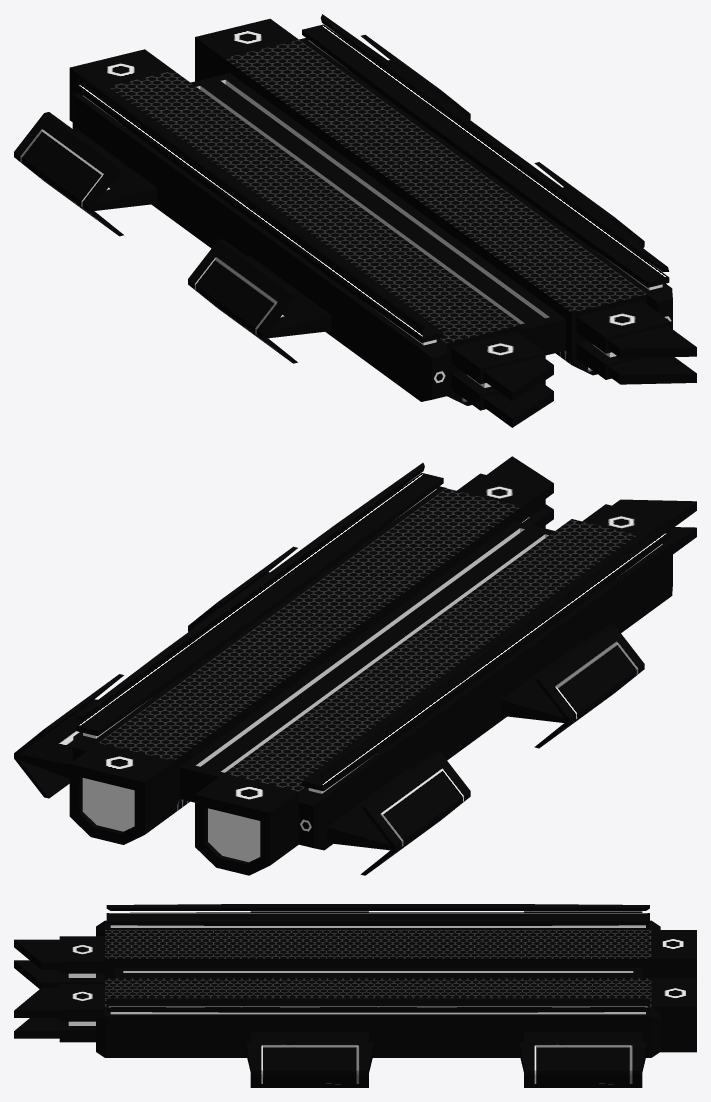
The model's file is Space platform.FBX.
3 renders of one model, top to bottom at view 1: azimuth 30°, elevation 25°; view 2: azimuth 150°, elevation 25°; view 3: azimuth 270°, elevation 25°, orthographic. The views are drawn at different scales.
Parts seen in each view (by area): view 1: partFx2000, partEx2000, partBx1500, partAx1500; view 2: partEx2000, partBx1500, partFx2000, partAx1500; view 3: partEx2000, partFx2000, partBx1500, partAx1500.
Boxes of the visible parts, <box> form: partFx2000: <box>334,203,696,427</box>; partEx2000: <box>14,14,470,236</box>; partBx1500: <box>188,140,644,363</box>; partAx1500: <box>160,76,496,256</box>; partEx2000: <box>14,652,470,875</box>; partBx1500: <box>188,524,644,748</box>; partFx2000: <box>336,456,696,641</box>; partAx1500: <box>162,588,498,768</box>; partEx2000: <box>515,904,696,1087</box>; partFx2000: <box>14,904,241,1057</box>; partBx1500: <box>241,904,378,1087</box>; partAx1500: <box>378,904,514,1057</box>.
Size of the model in its own units: 1496 by 357 by 2953.
